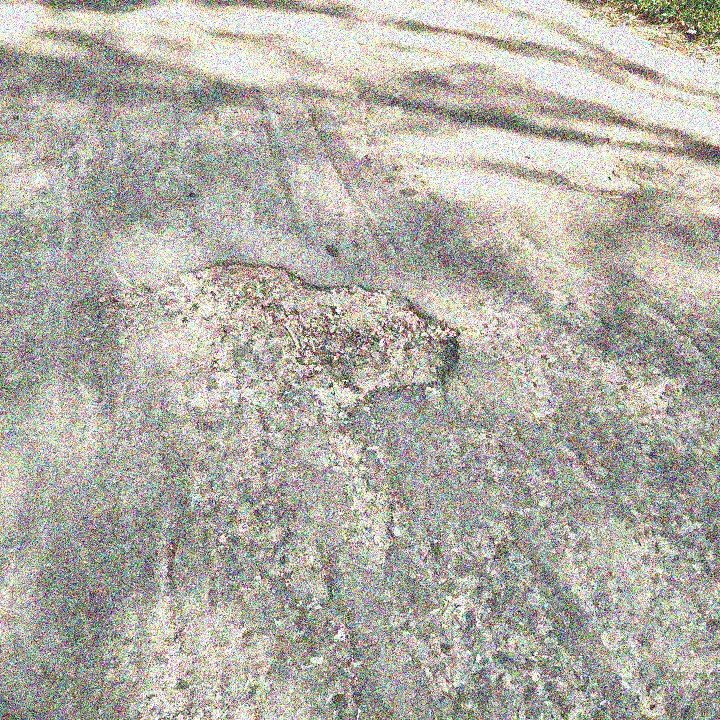pothole: (153, 258, 464, 417)
